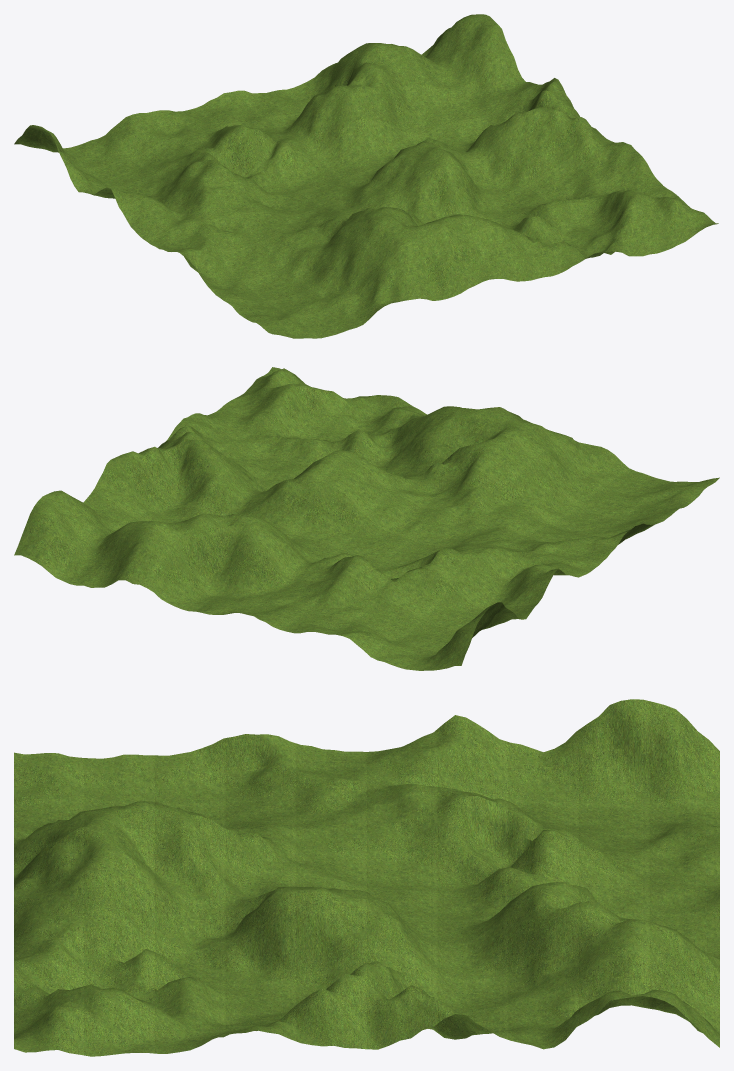
Rendered from terrain.fbx.
The picture shows the model from 3 angles, top to bottom: view 1: azimuth 30°, elevation 25°; view 2: azimuth 150°, elevation 25°; view 3: azimuth 270°, elevation 25°; orthographic projection. The views are drawn at different scales.
Visible parts, largest first — view 1: Plane01; view 2: Plane01; view 3: Plane01.
Part boxes in pixels (x1,y1,x2,y2): Plane01: (14, 14, 718, 338); Plane01: (14, 367, 719, 670); Plane01: (14, 699, 719, 1056).
Bounding box in the file's own units: 500 × 63.5 × 500.
Materials: 1 (1 with a texture image).
